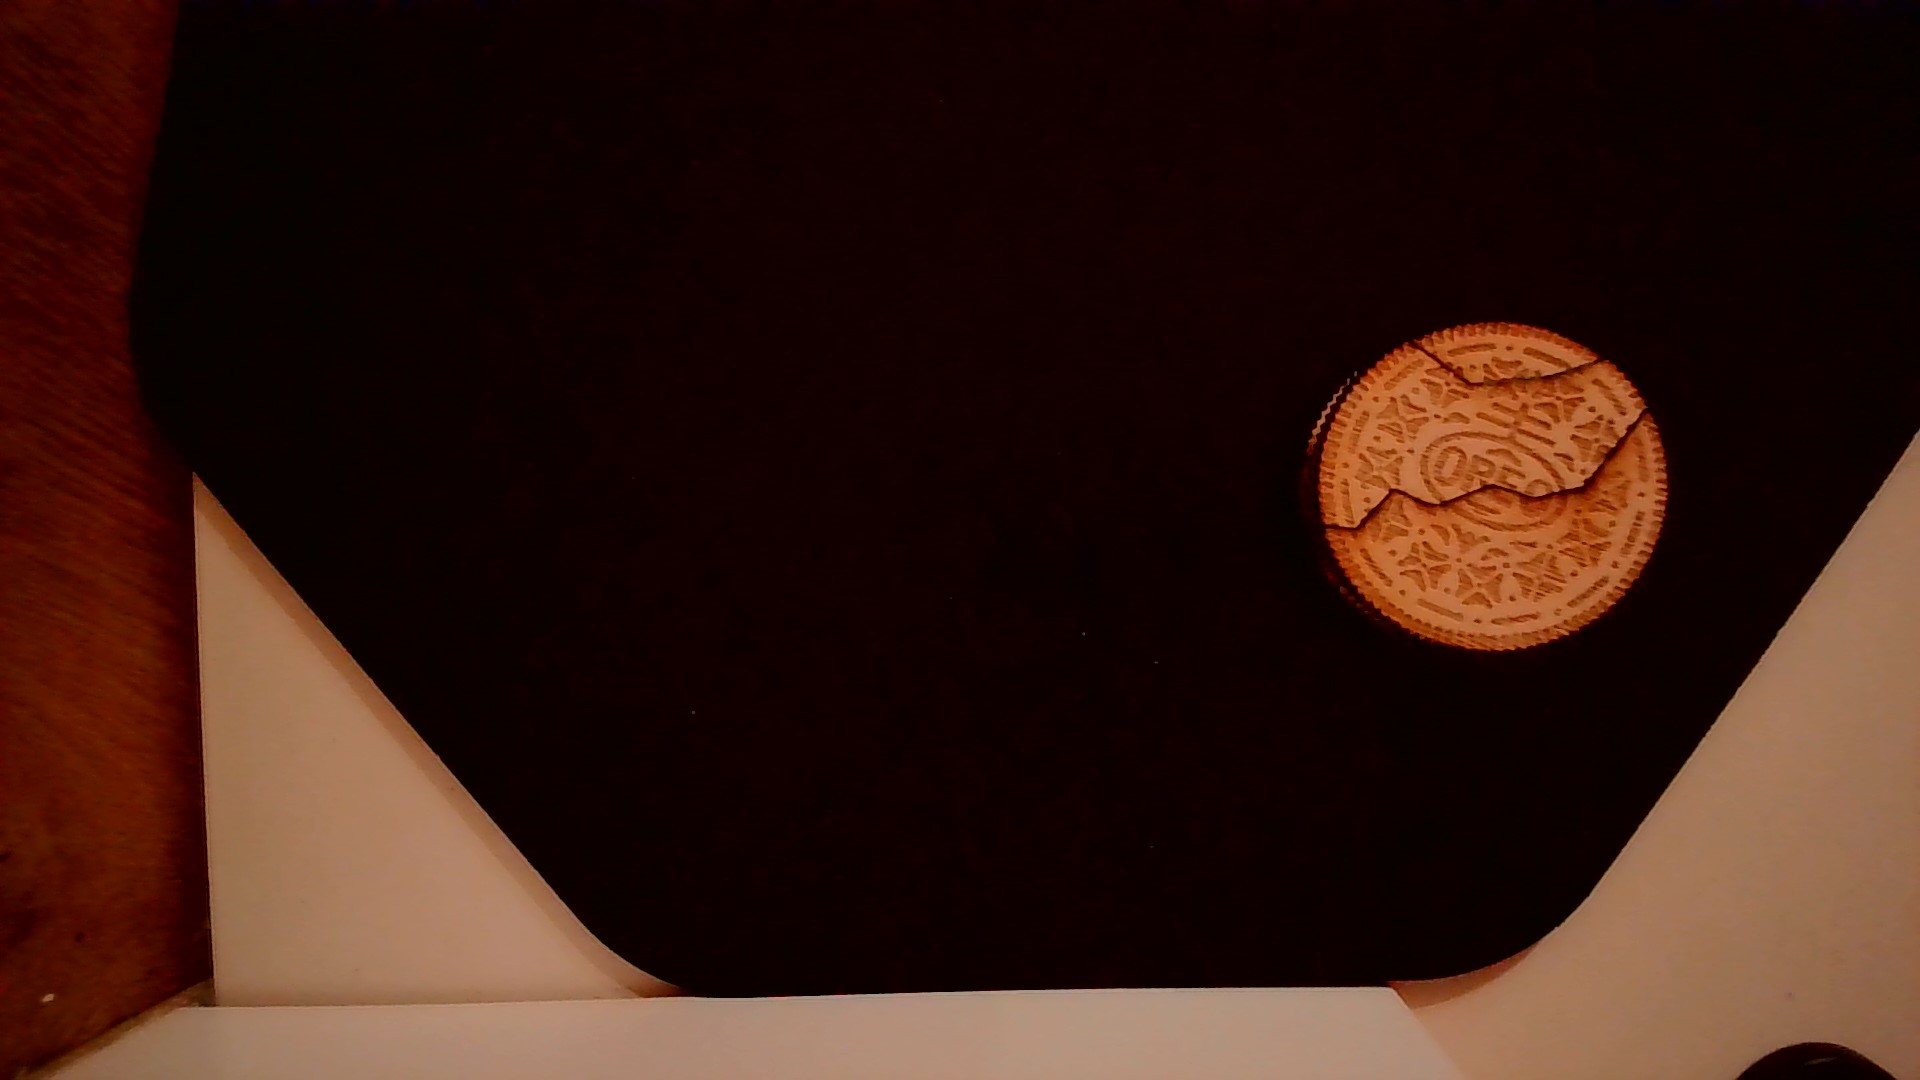Fissure: (1332, 409, 1644, 546), (1393, 338, 1607, 393)
Oréo: (1298, 315, 1673, 655)
